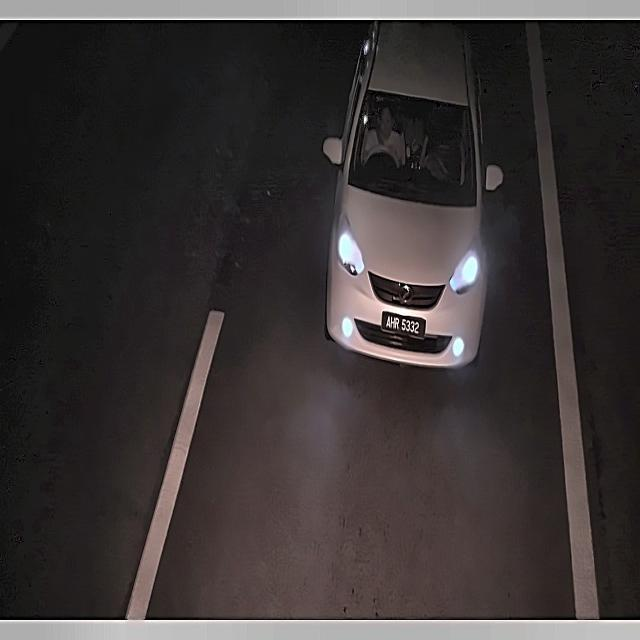car: (382, 307, 427, 344)
